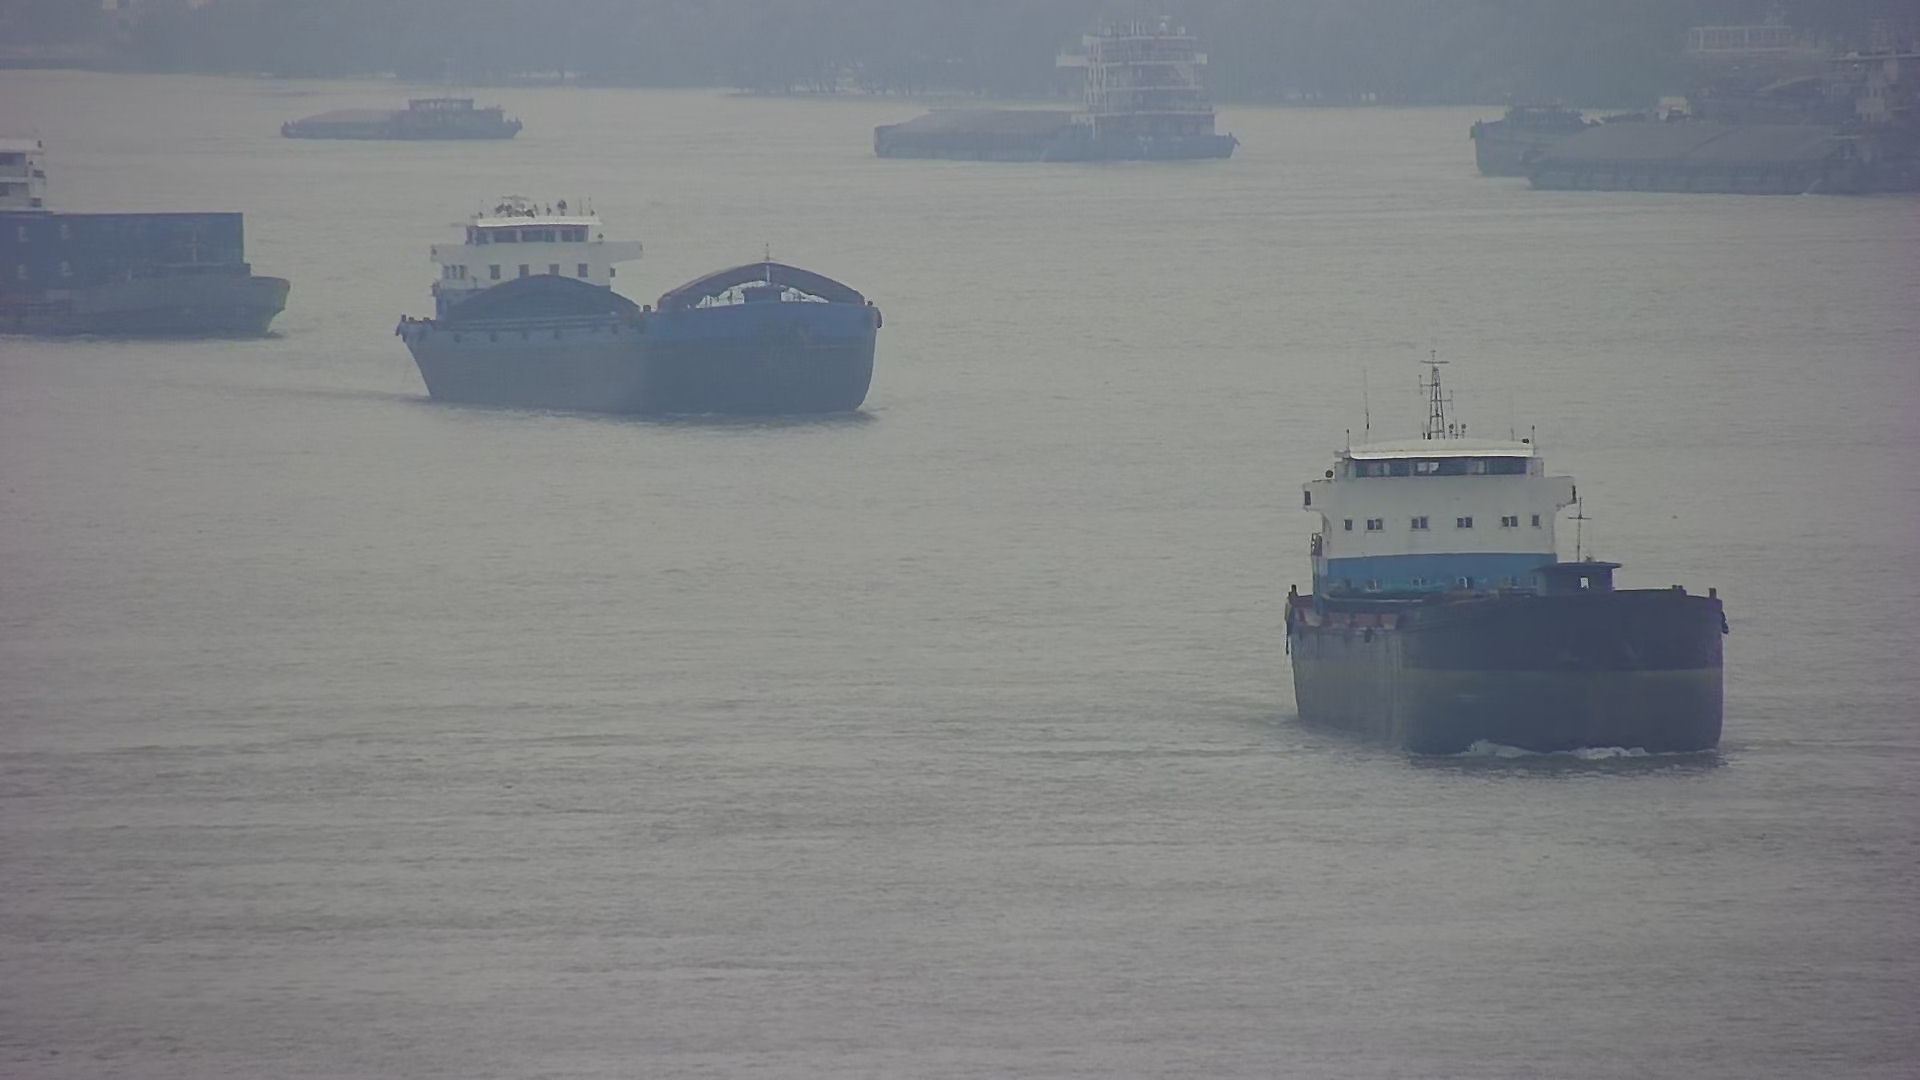ship: (1287, 352, 1724, 756), (394, 202, 877, 422), (1460, 28, 1920, 196), (1, 137, 290, 342), (876, 40, 1241, 164), (278, 94, 517, 141)
